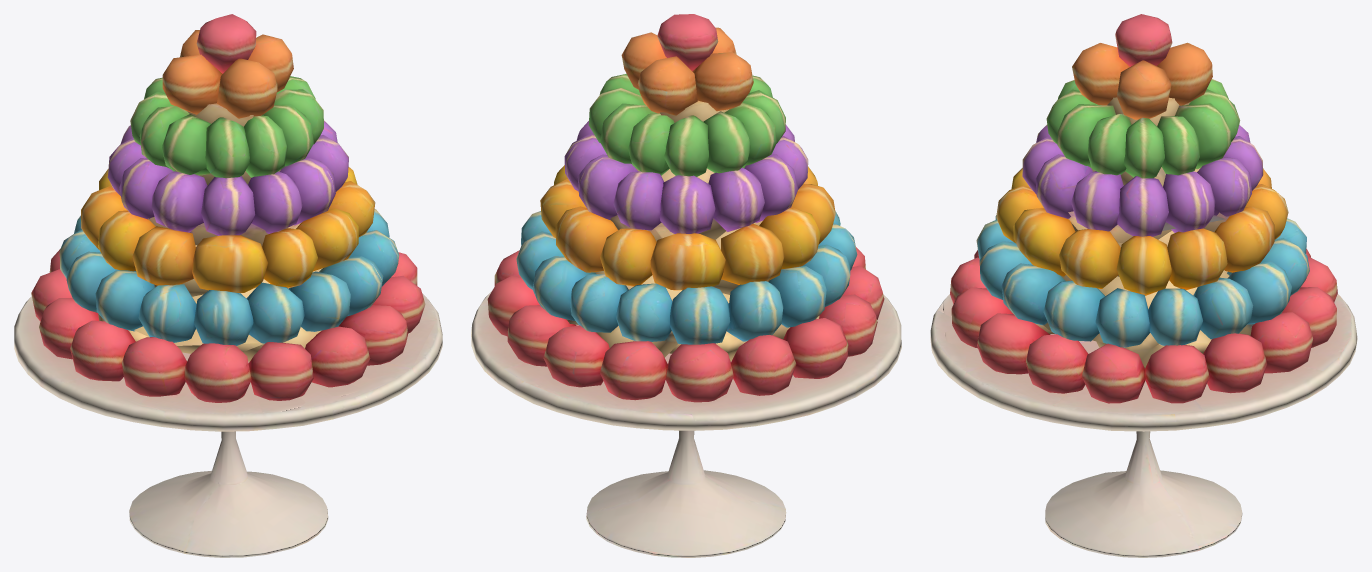
The model's file is dessert-macaron-tower.glb.
3 views of the same model, side by side, from view 1: azimuth 30°, elevation 25°; view 2: azimuth 150°, elevation 25°; view 3: azimuth 270°, elevation 25° (orthographic).
Parts seen in each view (by area): view 1: geometry_0; view 2: geometry_0; view 3: geometry_0.
Part boxes in pixels (x1,y1,x2,y2): geometry_0: (14,14,442,557); geometry_0: (471,14,901,557); geometry_0: (930,14,1357,557).
Bounding box in the file's own units: 0.7897 × 1 × 0.7831.
1 material, 1 textured.
